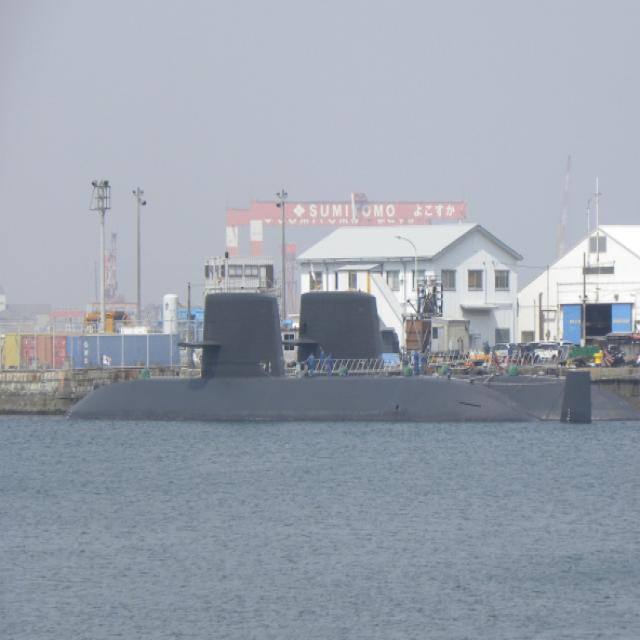submarine: (58, 295, 590, 423), (298, 292, 640, 419)
